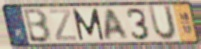3: (126, 6, 151, 41)
A: (104, 7, 130, 41)
B: (23, 6, 53, 44)
M: (71, 8, 106, 42)
U: (147, 4, 178, 42)
Z: (48, 8, 78, 42)
